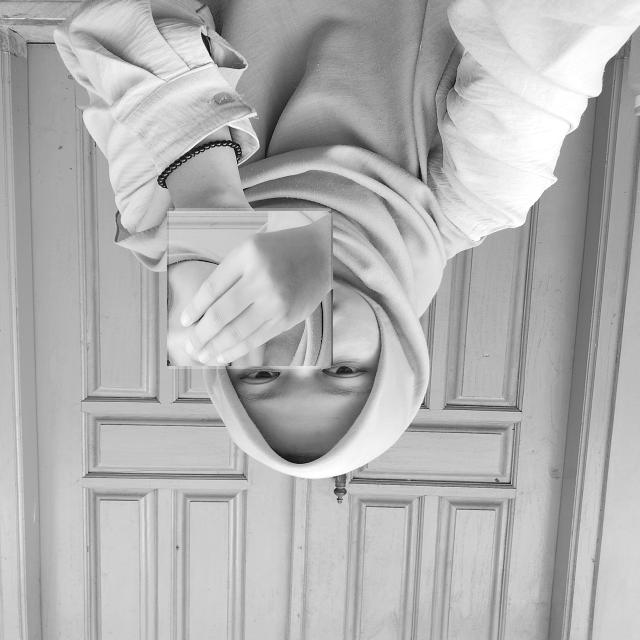bau: (169, 208, 331, 369)
